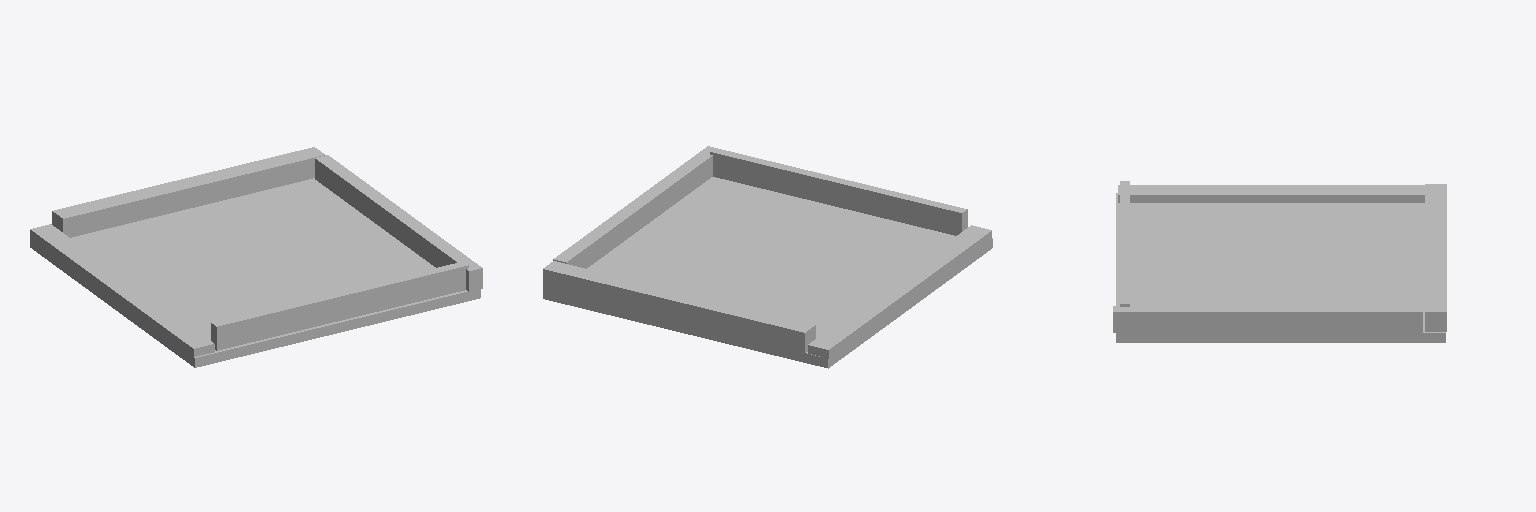
Rendered from playarea.obj.
3 renders of one model, left to right at view 1: azimuth 30°, elevation 25°; view 2: azimuth 150°, elevation 25°; view 3: azimuth 270°, elevation 25°, orthographic.
Parts seen in each view (by area): view 1: Cube; view 2: Cube; view 3: Cube.
Part boxes in pixels (x1,y1,x2,y2): Cube: (30, 147, 482, 367); Cube: (543, 146, 992, 368); Cube: (1113, 181, 1446, 342).
Size of the model in its own units: 60.22 by 6.84 by 60.65.